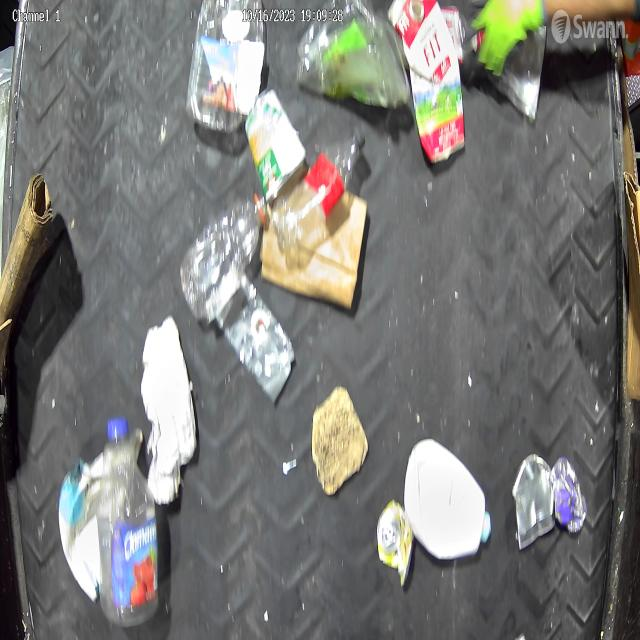can: (242, 88, 308, 203), (512, 451, 555, 554), (376, 497, 414, 588), (552, 456, 588, 534)
milk_jug: (403, 437, 492, 565)
non_white_jug: (388, 0, 467, 167)
plastic_bottle: (98, 414, 162, 628), (270, 117, 367, 257), (178, 191, 268, 322), (185, 0, 268, 134)
